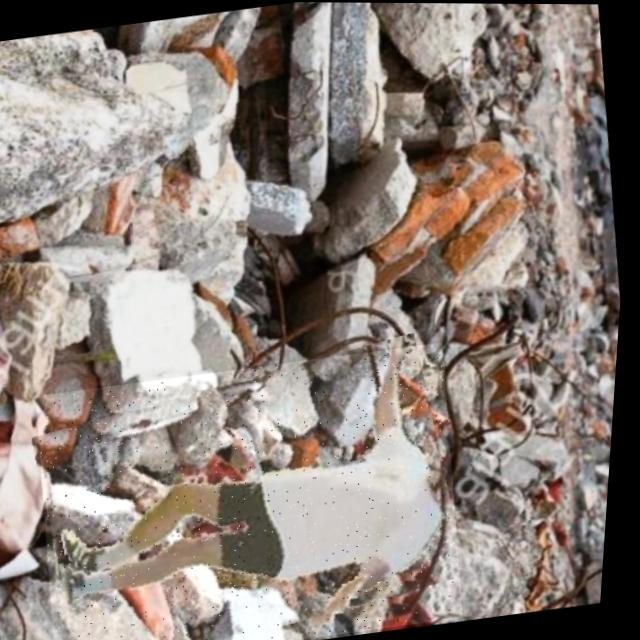Person in Rubble: (27, 339, 485, 640)
